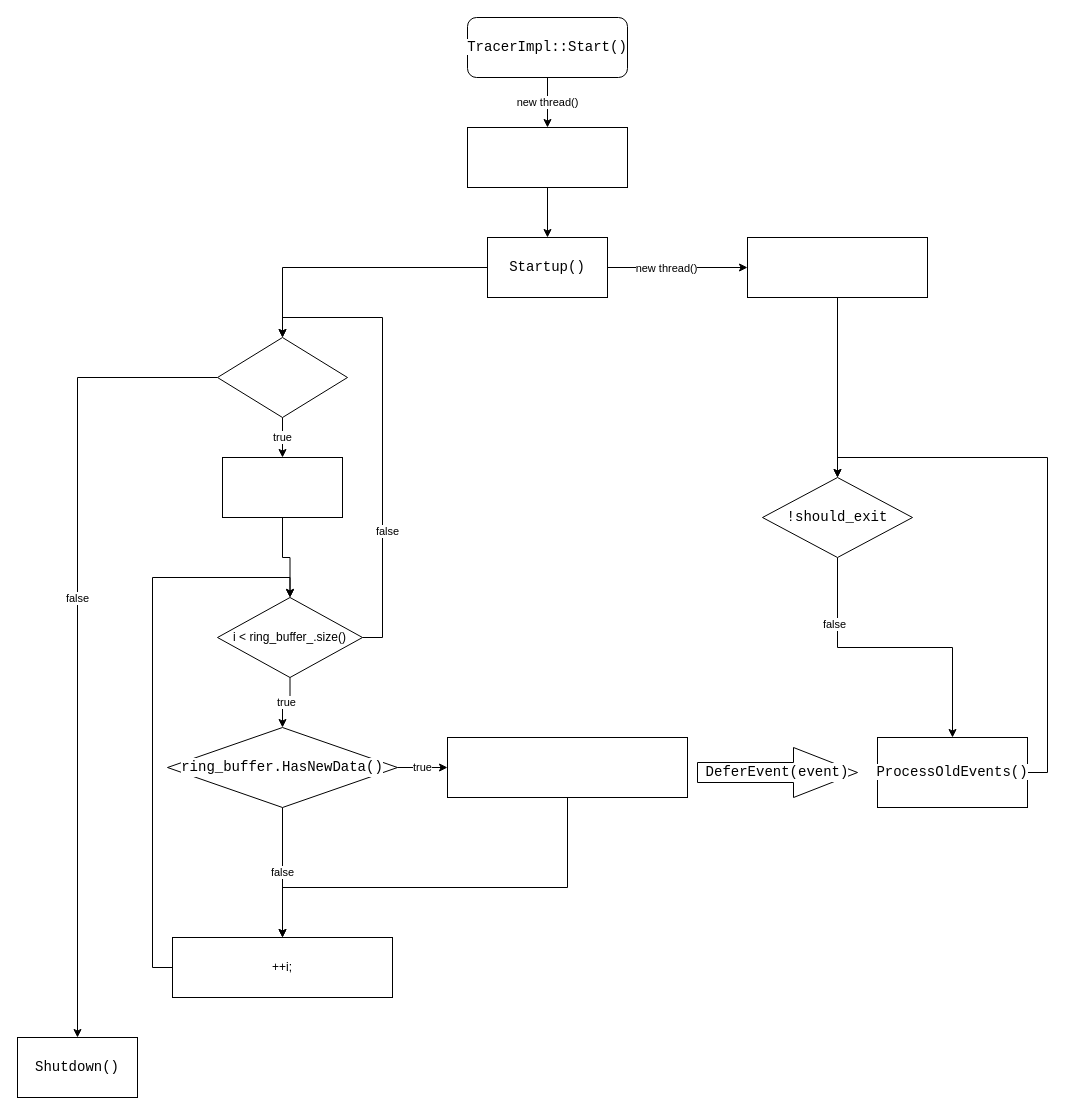
This 1073x1115 diagram has some shape labels left out. Here are the shapes that lost their labels. From the top down, the box of each, then its label:
(466, 126, 628, 188): TracerImpl::Run()
(746, 236, 928, 298): ProcessDeferredEvents()
(216, 336, 348, 418): !stop_run_thread_
(222, 456, 342, 518): int i = 0;
(446, 736, 688, 798): ProcessOneRecord(&ring_buffer)
